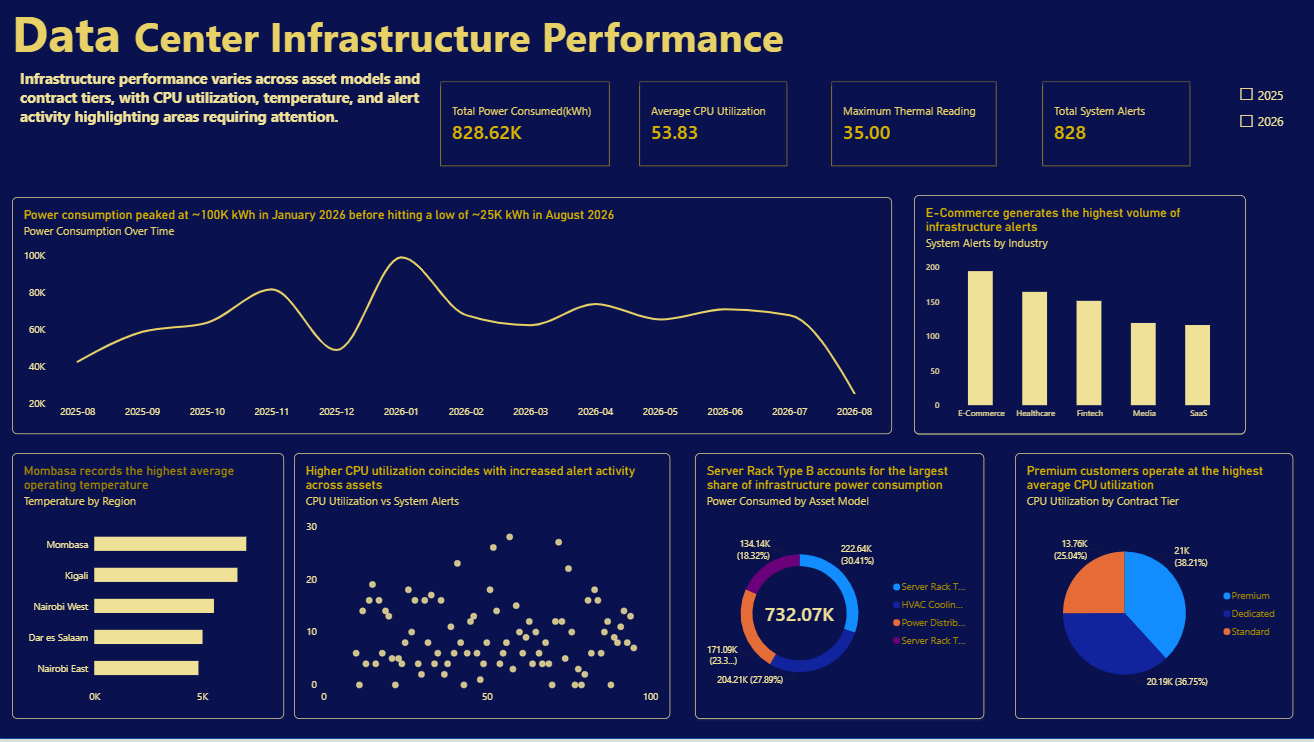

What the dashboard file says about the page in this screenshot:
{"tool":"powerbi","page":{"name":"Performance","canvas":[1920,1080],"ordinal":1},"visuals":[{"type":"shape","box":[0,0,1920,1079.6],"z":0},{"type":"shape","box":[0,0.4,1920,1079.6],"z":1000},{"type":"shape","box":[0,0,1920,1079.6],"z":2000},{"type":"textbox","box":[19.1,0,1249.8,103.5],"z":3000},{"type":"lineChart","title":"Power consumption peaked at ~100K kWh in January 2026 before hitting a low of ~25K kWh in August 2026","fields":{"Category":["Dim_Date.Year_Month"],"Y":["Sum(fact_infrastructure_telemetry.Power_Consumed_kWh)"]},"box":[19.1,288.2,1283.9,345.8],"z":4000},{"type":"donutChart","title":"Server Rack Type B accounts for the largest share of infrastructure power consumption","fields":{"Category":["dim_asset.Asset_Model"],"Y":["Sum(fact_infrastructure_telemetry.Power_Consumed_kWh)"]},"box":[1015.7,662.3,421.9,388.5],"z":5000},{"type":"barChart","title":"Mombasa records the highest average operating temperature","fields":{"Category":["dim_client.HQ_Region"],"Y":["Sum(fact_infrastructure_telemetry.Thermal_Reading_C)"]},"box":[19,662.4,396.8,388.1],"z":6000},{"type":"pieChart","title":"Premium customers operate at the highest average CPU utilization","fields":{"Category":["dim_client.Contract_Tier"],"Y":["Sum(fact_infrastructure_telemetry.Avg_CPU_Utilization_Pct)"]},"box":[1482.2,662.3,405.6,388.1],"z":7000},{"type":"columnChart","title":"E-Commerce generates the highest volume of infrastructure alerts","fields":{"Category":["dim_client.Industry"],"Y":["Sum(fact_infrastructure_telemetry.System_Alerts)"]},"box":[1335,286,484,348.7],"z":8000},{"type":"scatterChart","title":"Higher CPU utilization coincides with increased alert activity across assets","fields":{"X":["fact_infrastructure_telemetry.Avg_CPU_Utilization_Pct"],"Y":["Sum(fact_infrastructure_telemetry.System_Alerts)"]},"box":[429.9,662.3,548.6,388.1],"z":9000},{"type":"cardVisual","fields":{"Data":["Measures Table.Total Power Consumed(kWh)"]},"box":[643.4,119.6,248.4,125.8],"z":10000},{"type":"cardVisual","fields":{"Data":["Measures Table.Maximum Thermal Reading"]},"box":[1213.9,119.6,242.2,125.5],"z":11000},{"type":"cardVisual","fields":{"Data":["Measures Table.Total System Alerts"]},"box":[1521.7,119.6,217.4,125.5],"z":12000},{"type":"cardVisual","fields":{"Data":["Measures Table.Average CPU Utilization"]},"box":[933.7,119.6,217.4,125.5],"z":13000},{"type":"textbox","box":[30.2,100.3,593.8,95.5],"z":13001},{"type":"slicer","fields":{"Values":["Dim_Date.Year"]},"box":[1803.3,119.6,84.6,96.3],"z":13002}]}

Visuals, with their boxes in screenshot pixels (x1, y1, x2, y2), scaled from the page's 1920x1080 canvas onto the 1314x742 screenshot:
shape: [x1=0, y1=0, x2=1313, y2=741]
shape: [x1=0, y1=0, x2=1313, y2=741]
shape: [x1=0, y1=0, x2=1313, y2=741]
textbox: [x1=13, y1=0, x2=868, y2=71]
"Power consumption peaked at ~100K kWh in January 2026 before hitting a low of ~25K kWh in August 2026" lineChart: [x1=13, y1=198, x2=892, y2=436]
"Server Rack Type B accounts for the largest share of infrastructure power consumption" donutChart: [x1=695, y1=455, x2=984, y2=722]
"Mombasa records the highest average operating temperature" barChart: [x1=13, y1=455, x2=285, y2=722]
"Premium customers operate at the highest average CPU utilization" pieChart: [x1=1014, y1=455, x2=1292, y2=722]
"E-Commerce generates the highest volume of infrastructure alerts" columnChart: [x1=914, y1=196, x2=1245, y2=436]
"Higher CPU utilization coincides with increased alert activity across assets" scatterChart: [x1=294, y1=455, x2=670, y2=722]
cardVisual - Measures Table.Total Power Consumed(kWh): [x1=440, y1=82, x2=610, y2=169]
cardVisual - Measures Table.Maximum Thermal Reading: [x1=831, y1=82, x2=997, y2=168]
cardVisual - Measures Table.Total System Alerts: [x1=1041, y1=82, x2=1190, y2=168]
cardVisual - Measures Table.Average CPU Utilization: [x1=639, y1=82, x2=788, y2=168]
textbox: [x1=21, y1=69, x2=427, y2=135]
slicer - Dim_Date.Year: [x1=1234, y1=82, x2=1292, y2=148]
